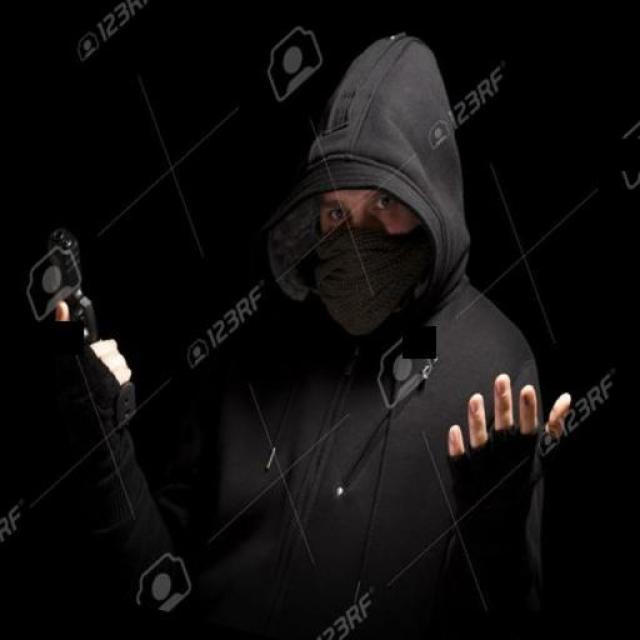gun: (1, 221, 185, 439)
